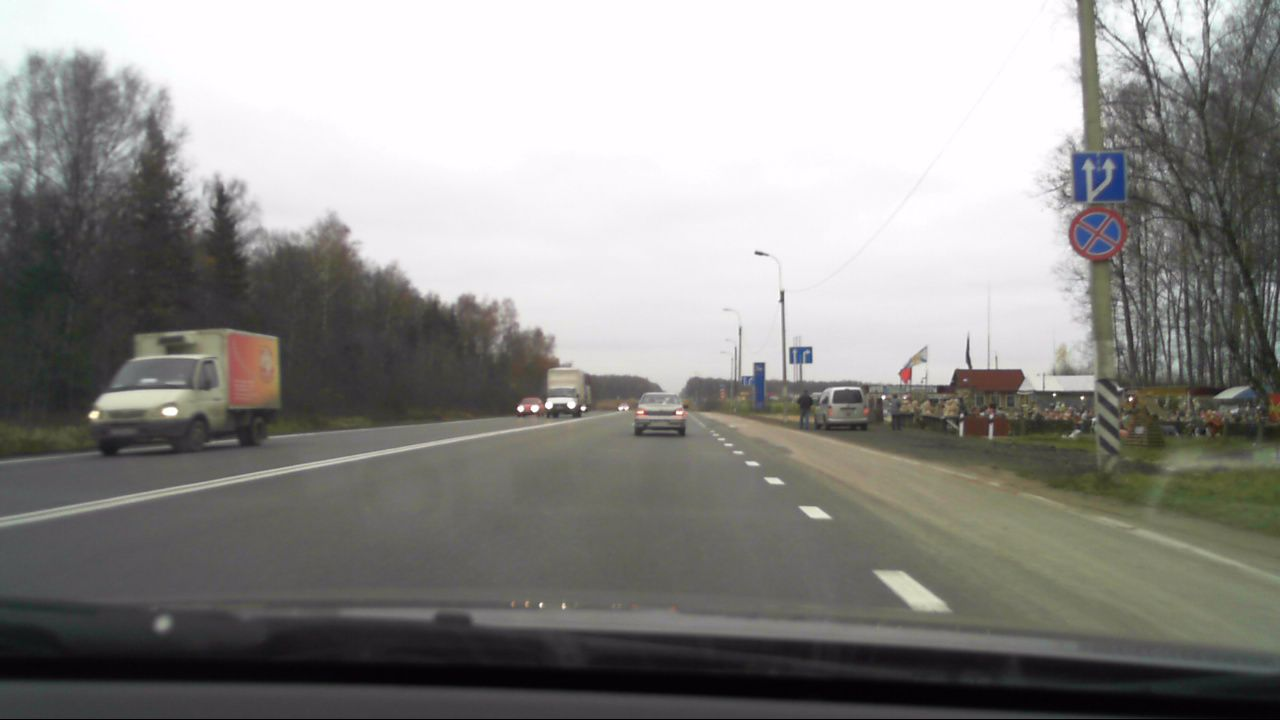No Parking: (1068, 209, 1125, 260)
